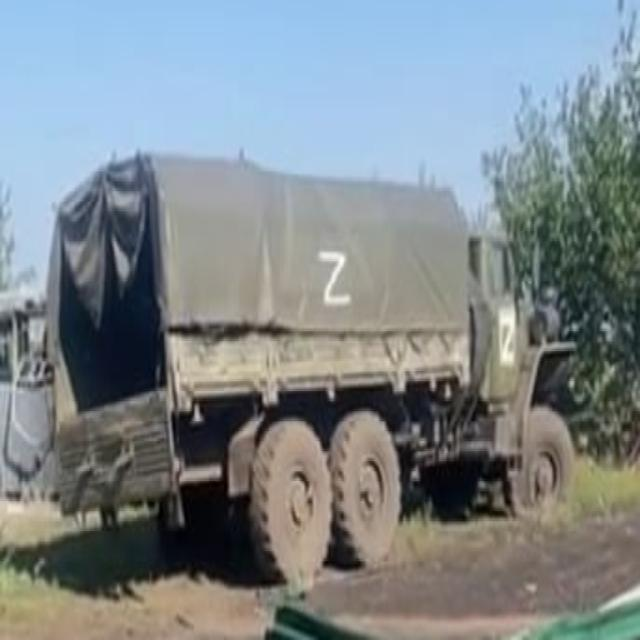TRUCK: (42, 140, 578, 587)
